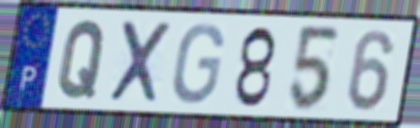5: (285, 22, 344, 115)
6: (343, 27, 398, 114)
8: (233, 24, 277, 109)
G: (169, 21, 227, 107)
Q: (55, 18, 109, 102)
X: (106, 17, 175, 106)
